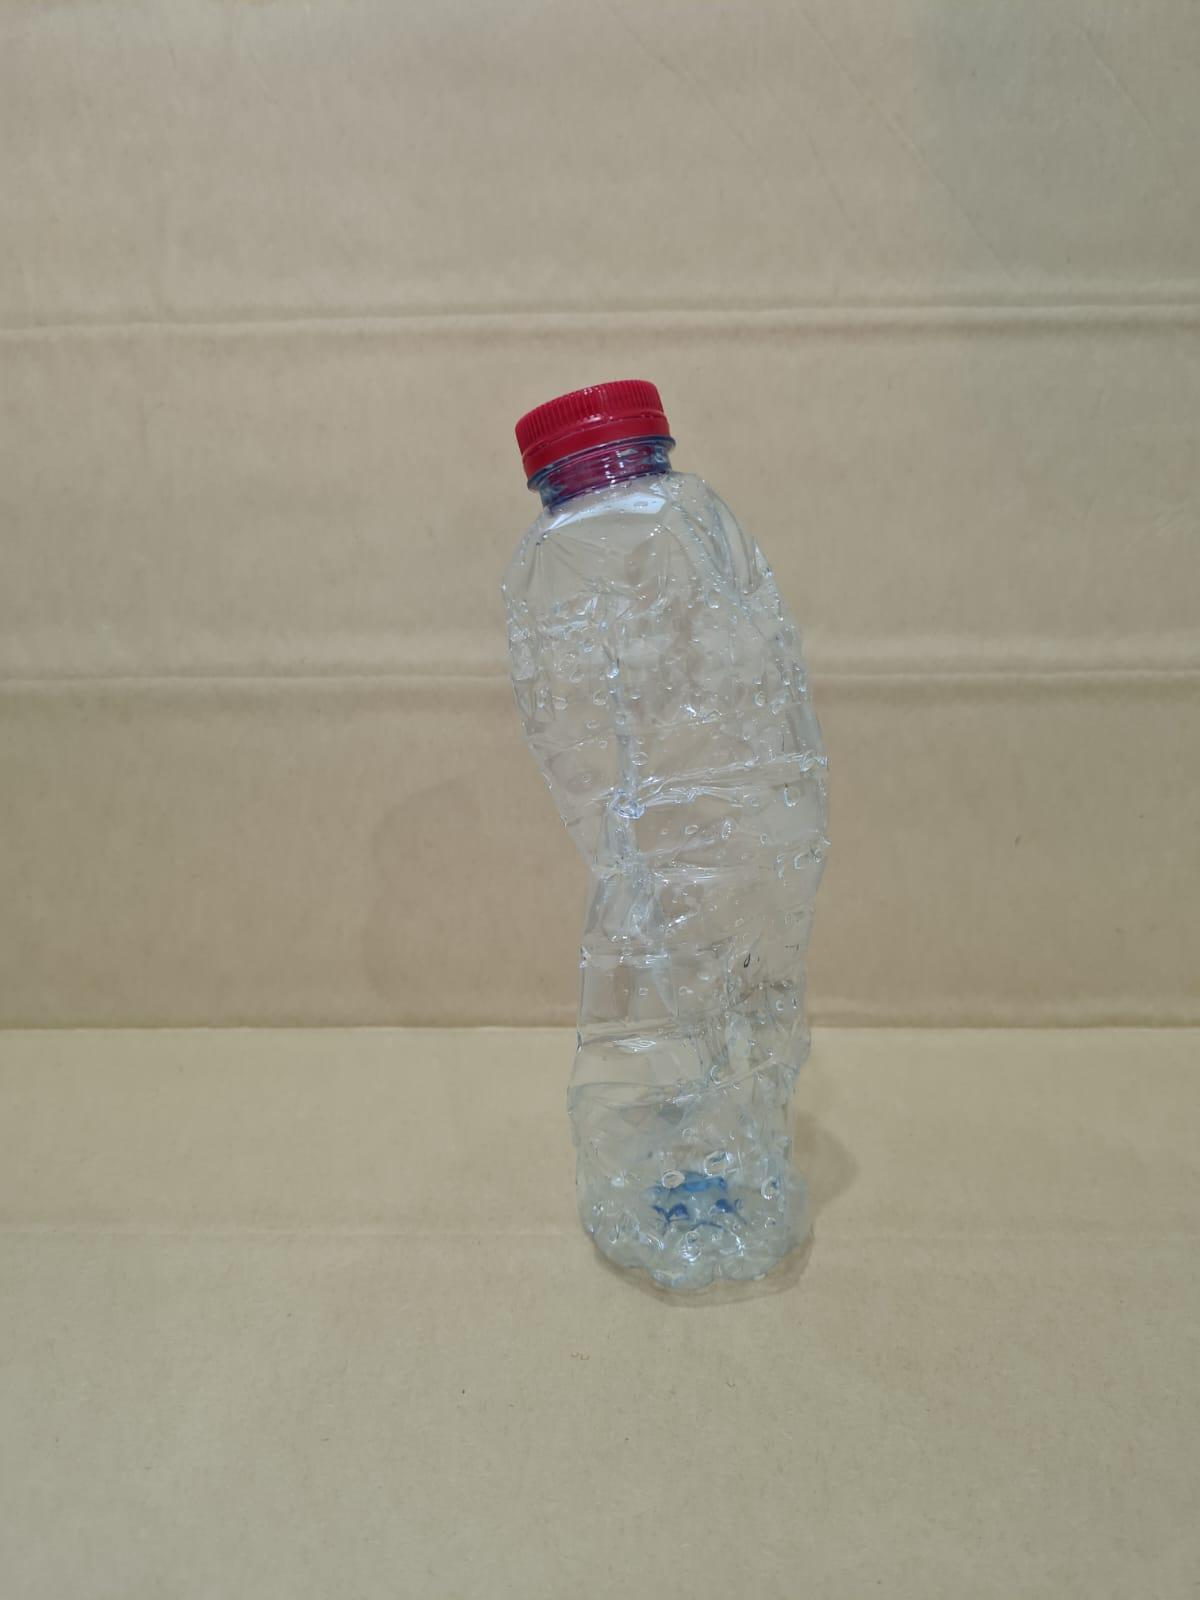bottle: (493, 362, 862, 1315)
